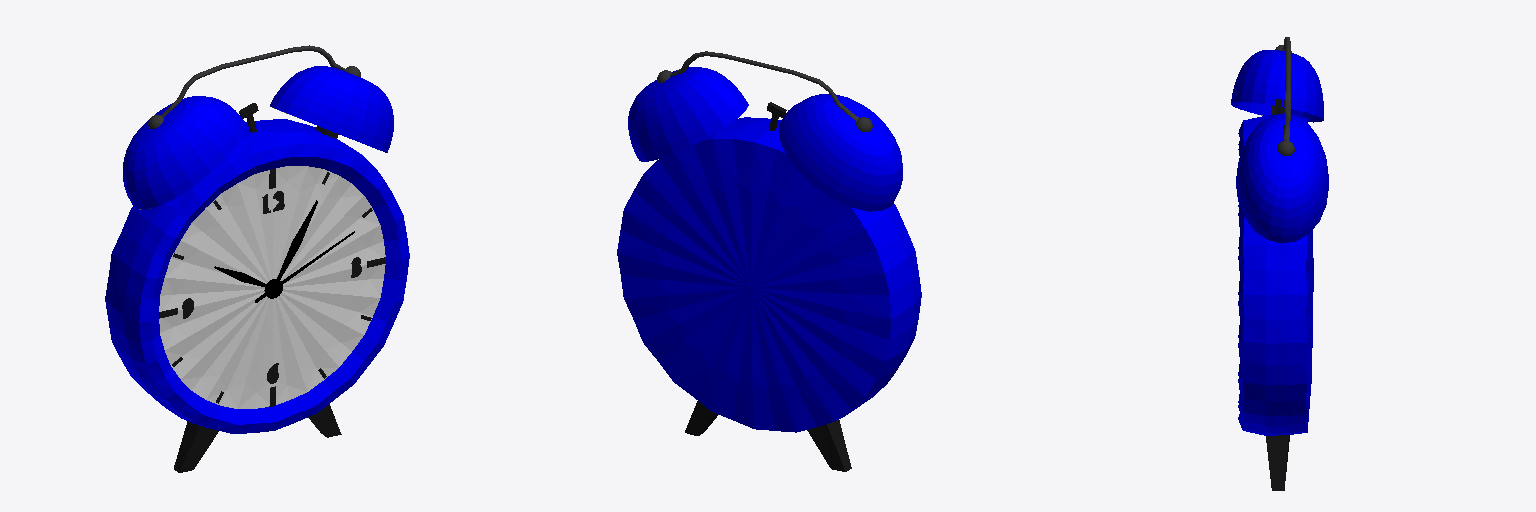
File: Wecker.obj
The picture shows the model from 3 angles: view 1: azimuth 30°, elevation 25°; view 2: azimuth 150°, elevation 25°; view 3: azimuth 270°, elevation 25°; orthographic projection.
Visible parts, largest first — view 1: pCylinder4; view 2: pCylinder4; view 3: pCylinder4.
Part boxes in pixels (x1,y1,x2,y2): pCylinder4: (105,45,409,472); pCylinder4: (617,51,921,471); pCylinder4: (1231,37,1328,490).
Size of the model in its own units: 1.93 by 2.59 by 0.5917.